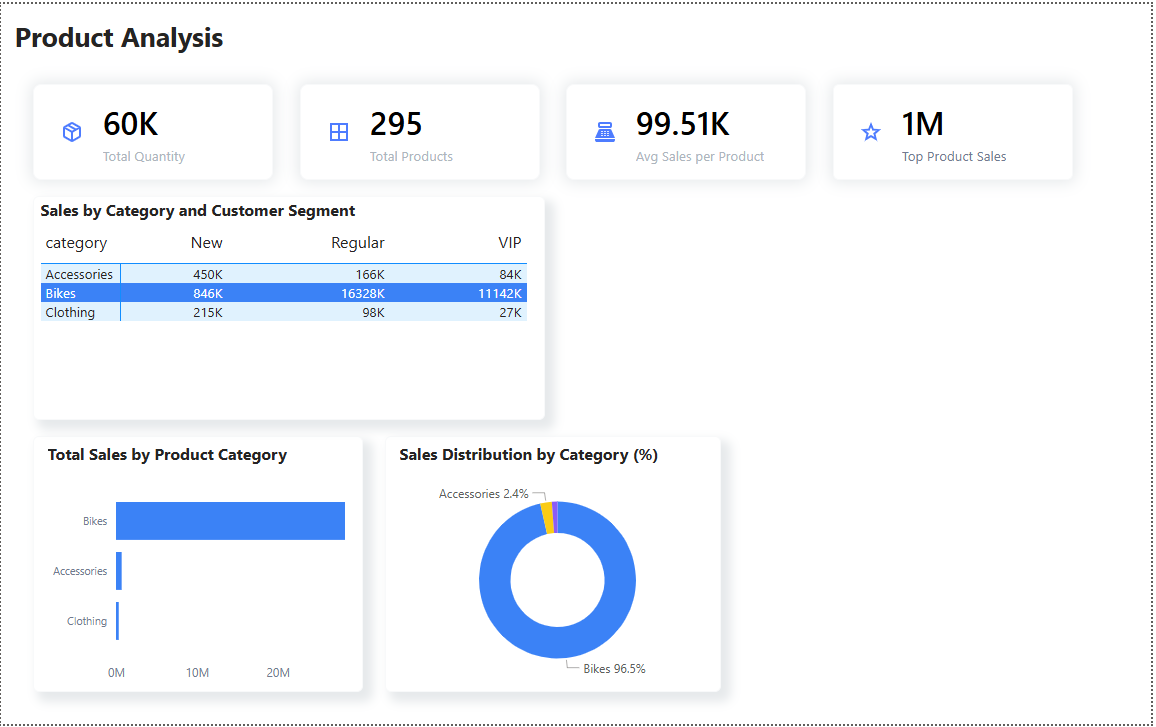

The page's visual inventory and layout, read from the dashboard file:
{"tool":"powerbi","page":{"name":"Product Analysis","canvas":[1150,720],"ordinal":3},"visuals":[{"type":"textbox","box":[0,0,416,64],"z":0},{"type":"clusteredBarChart","title":"Total Sales by Product Category","fields":{"Category":["gold dim_products.category"],"Y":["Measure.Total Sales"]},"box":[32,432,330,256],"z":1000},{"type":"donutChart","title":"Sales Distribution by Category (%)","fields":{"Category":["gold dim_products.category"],"Y":["Measure.Total Sales"]},"box":[384,432,336,256],"z":2000},{"type":"cardVisual","fields":{"Data":["Measure.Total Quantity"]},"box":[32,80,240,96],"z":3000},{"type":"cardVisual","fields":{"Data":["Measure.Total Products"]},"box":[298.7,80,240,96],"z":4000},{"type":"cardVisual","fields":{"Data":["Measure.Avg Sales per Product"]},"box":[565.3,80,240,96],"z":5000},{"type":"cardVisual","fields":{"Data":["Measure.Top Product Sales"]},"box":[832,80,240,96],"z":6000},{"type":"pivotTable","title":"Sales by Category and Customer Segment","fields":{"Rows":["gold dim_products.category"],"Values":["Measure.Total Sales"],"Columns":["gold dim_customers.Customer Segment"]},"box":[32,192,512,224],"z":7000}]}

Visuals, with their boxes in screenshot pixels (x1, y1, x2, y2), scaled from the page's 1150x720 canvas onto the 1156x727 screenshot:
textbox: x1=0 y1=0 x2=418 y2=65
"Total Sales by Product Category" clusteredBarChart: x1=32 y1=436 x2=364 y2=695
"Sales Distribution by Category (%)" donutChart: x1=386 y1=436 x2=724 y2=695
cardVisual - Measure.Total Quantity: x1=32 y1=81 x2=273 y2=178
cardVisual - Measure.Total Products: x1=300 y1=81 x2=542 y2=178
cardVisual - Measure.Avg Sales per Product: x1=568 y1=81 x2=810 y2=178
cardVisual - Measure.Top Product Sales: x1=836 y1=81 x2=1078 y2=178
"Sales by Category and Customer Segment" pivotTable: x1=32 y1=194 x2=547 y2=420
